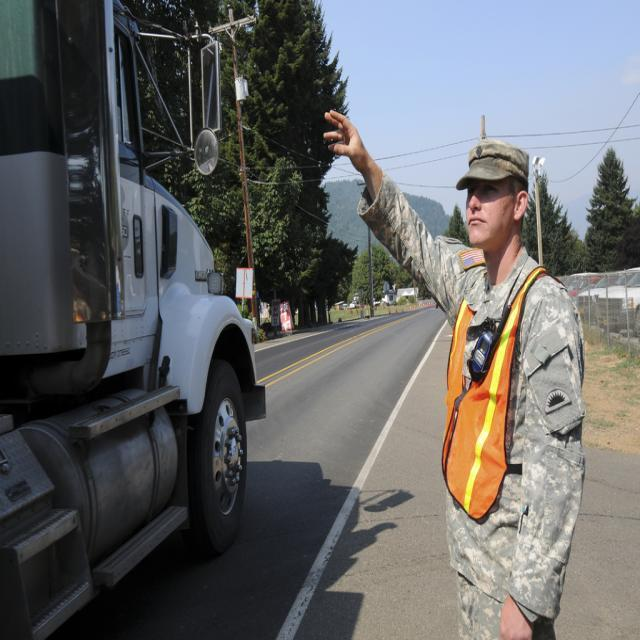bicycle: (1, 34, 271, 606)
